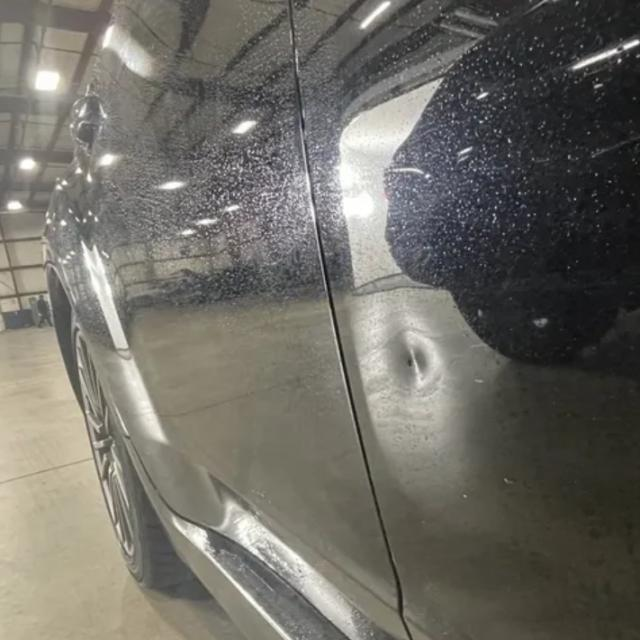dents: (392, 328, 450, 413)
